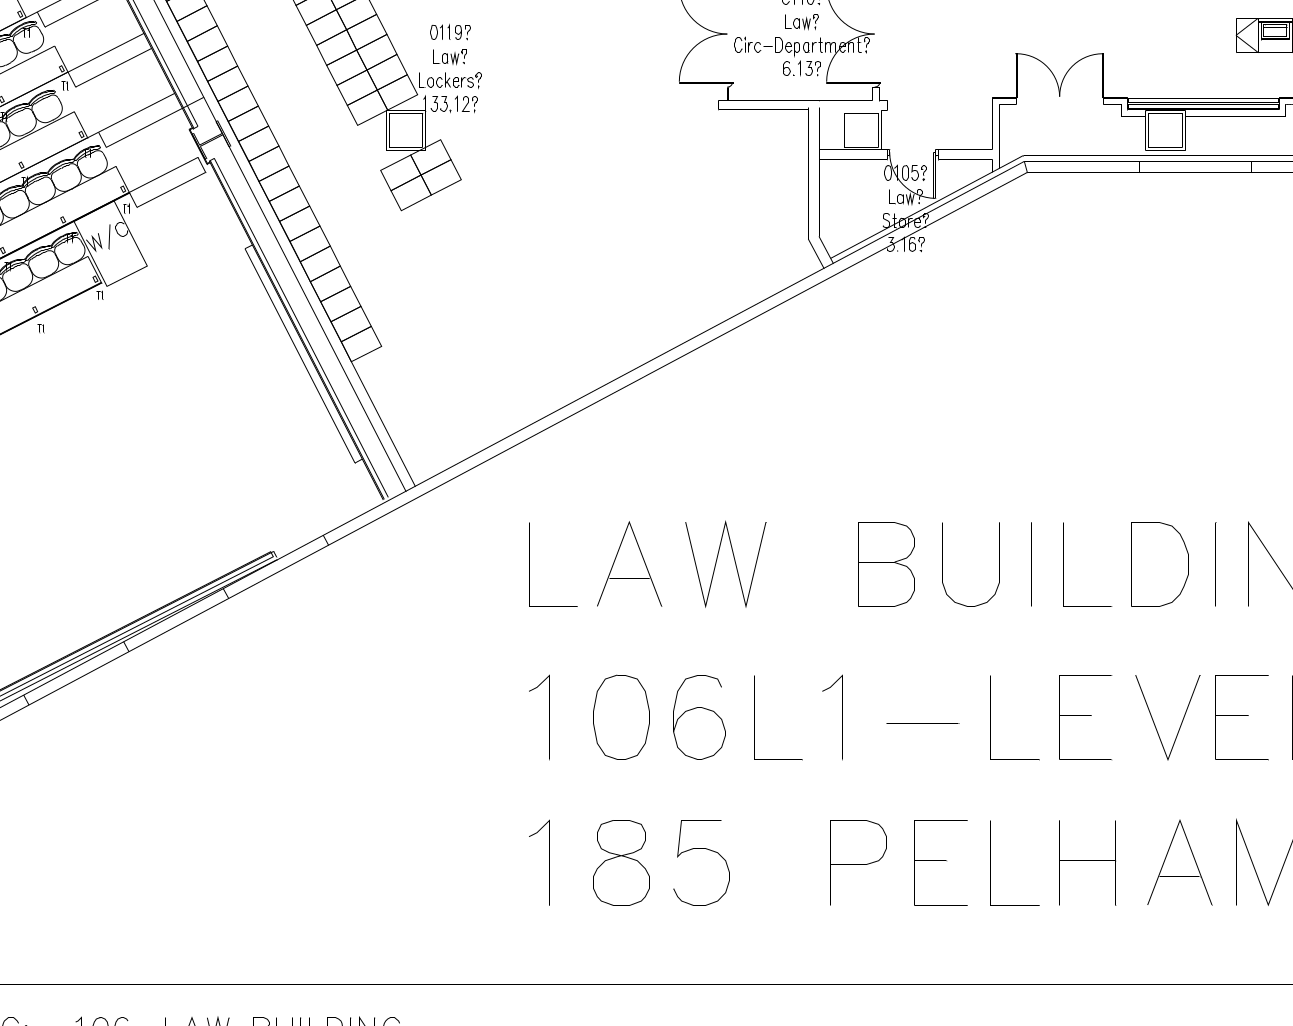door: (823, 33, 887, 97), (669, 33, 733, 95), (887, 140, 944, 204), (1003, 47, 1059, 110), (1058, 47, 1114, 110)
